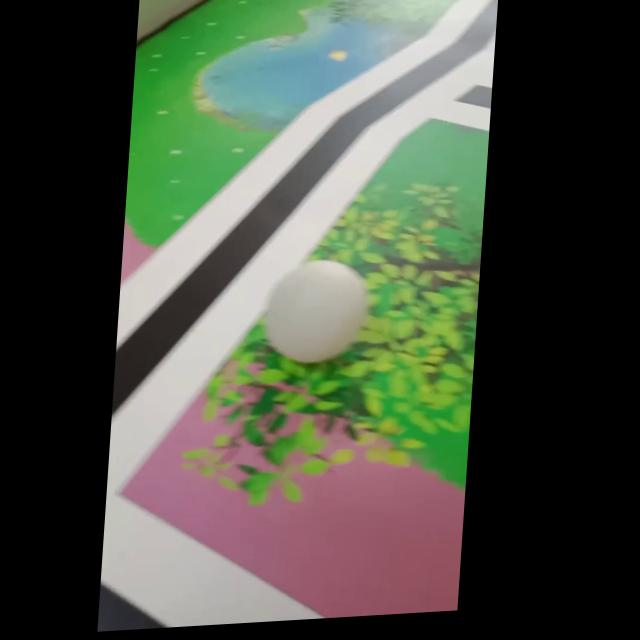white ball: (260, 255, 372, 367)
